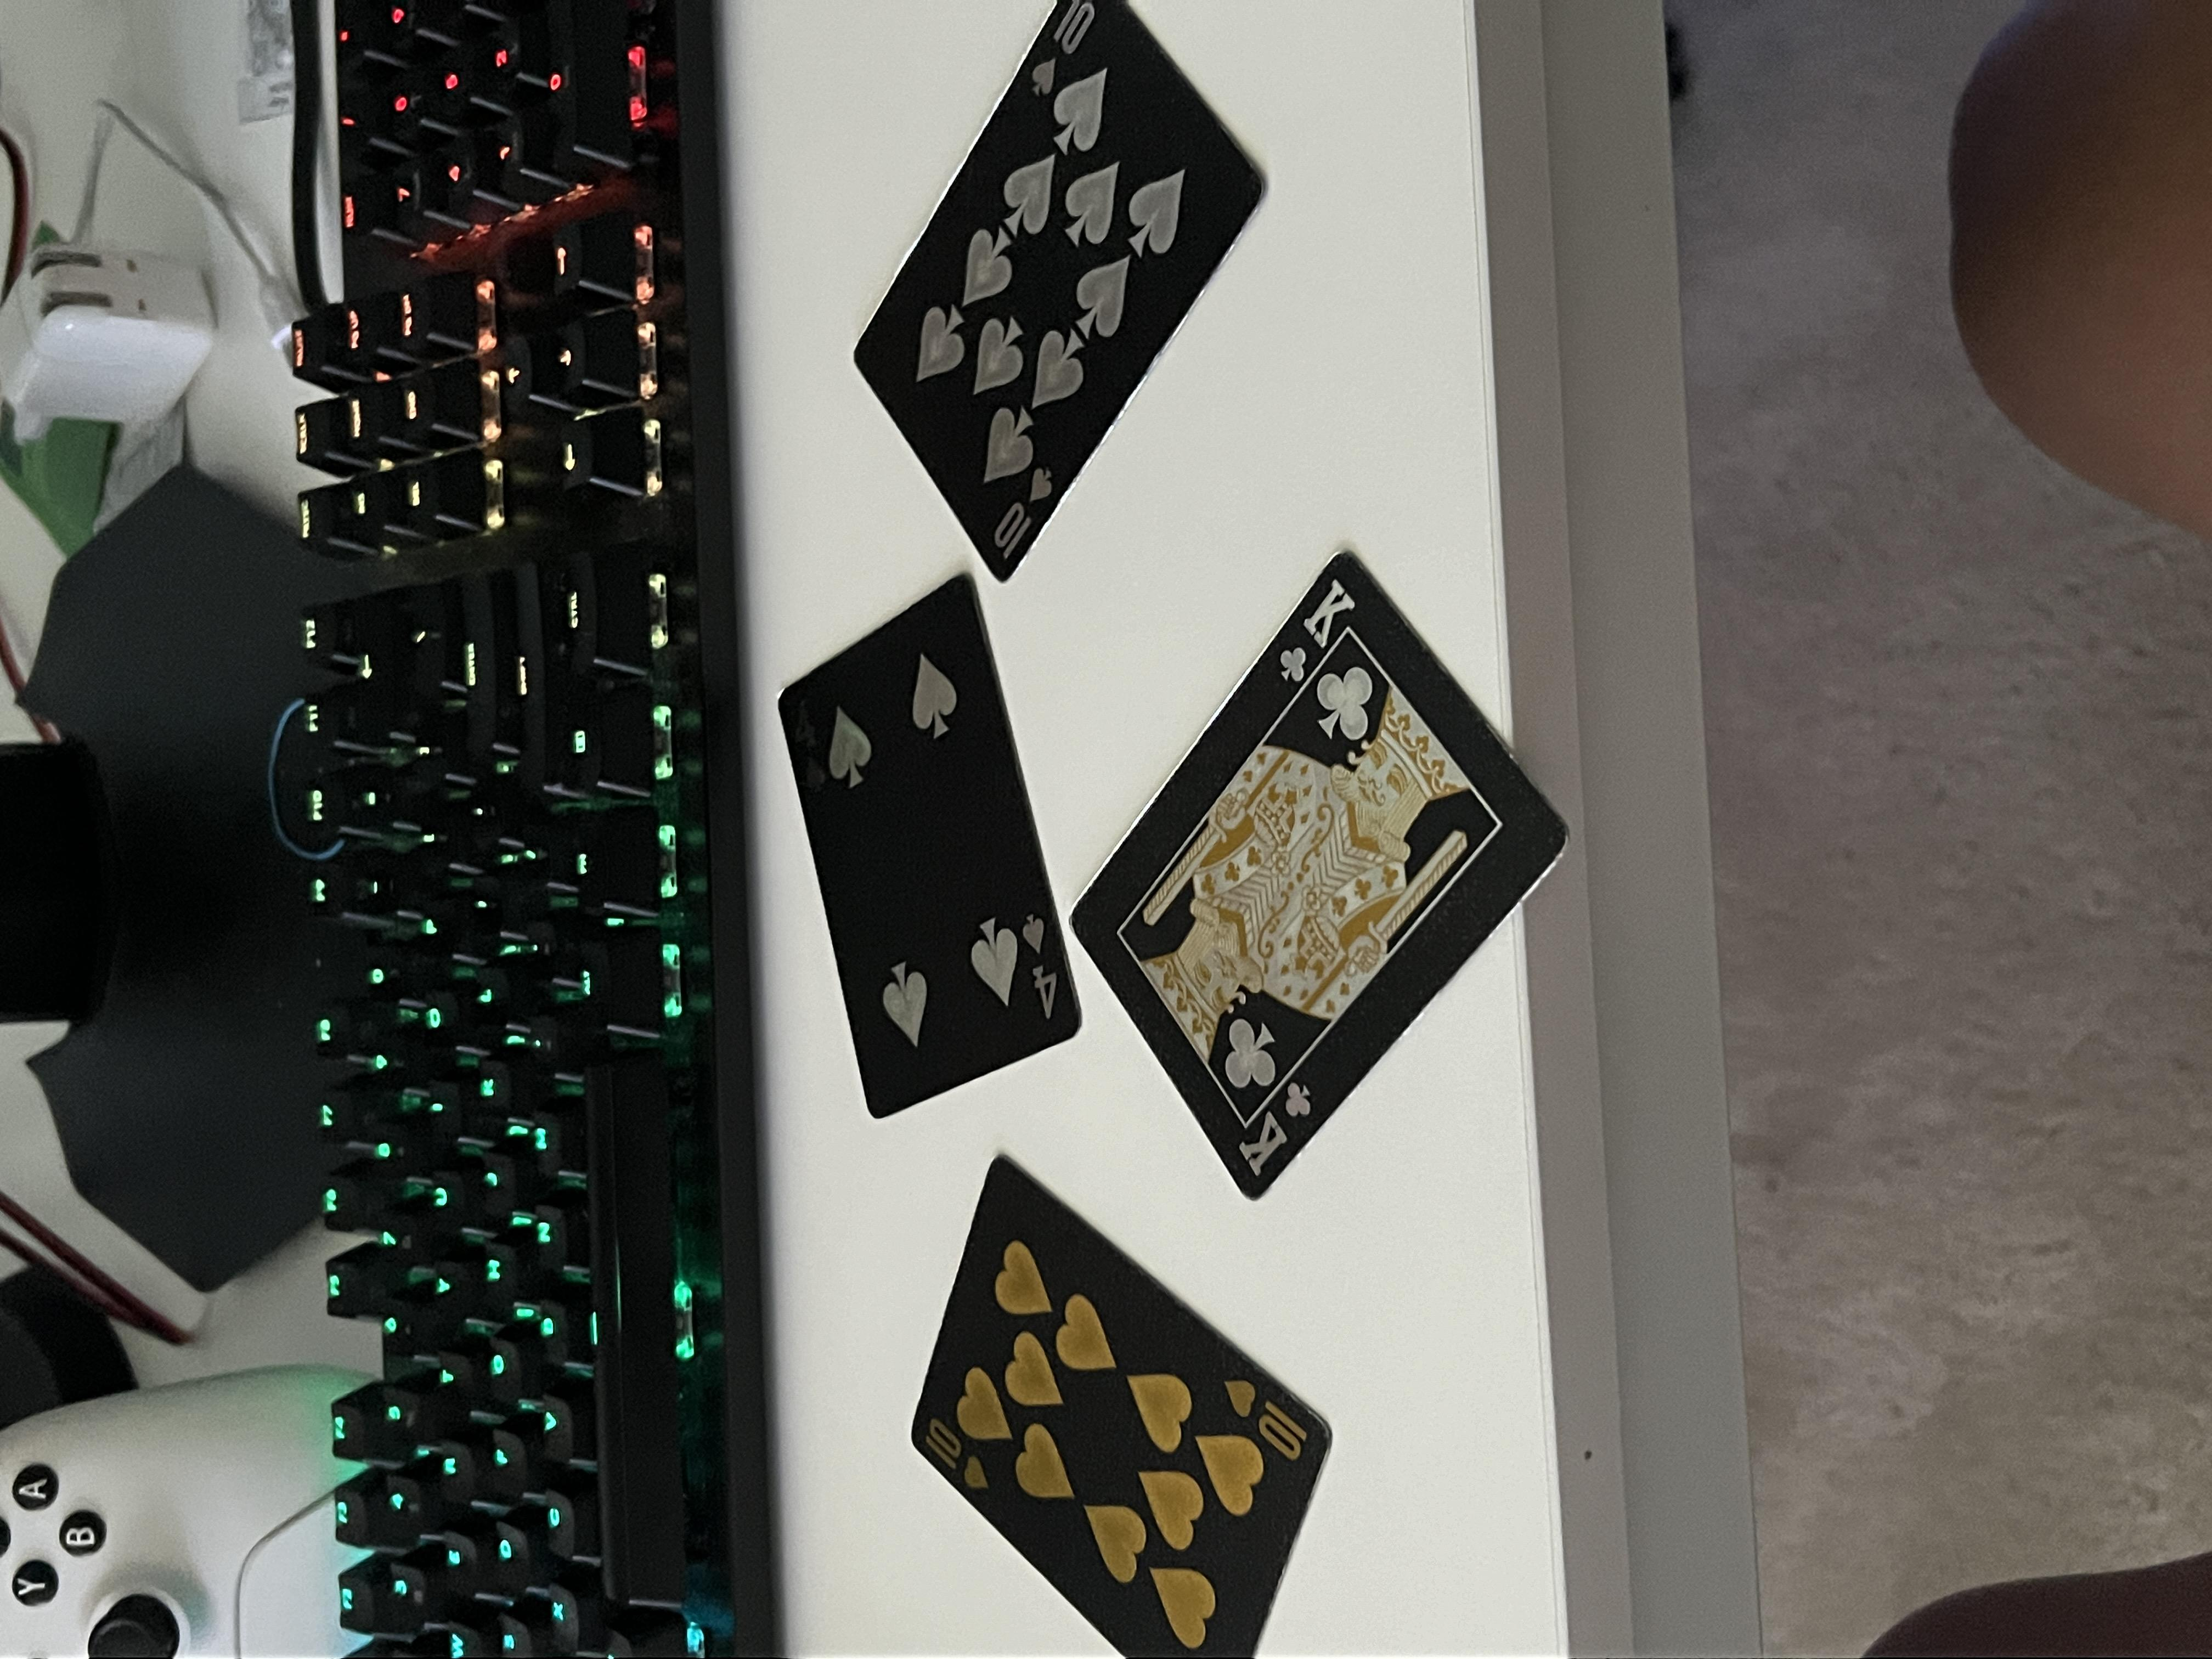10H: (247, 913, 392, 993), (225, 685, 317, 753)
10S: (2073, 765, 2212, 838), (1460, 739, 1608, 803)
4S: (843, 765, 1012, 793)
KC: (1280, 955, 1460, 1021), (631, 931, 794, 997)
